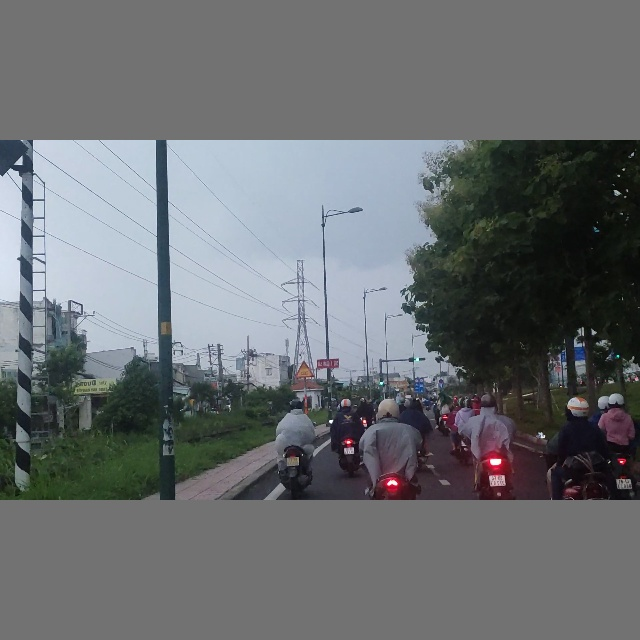W.210: (294, 360, 314, 378)
